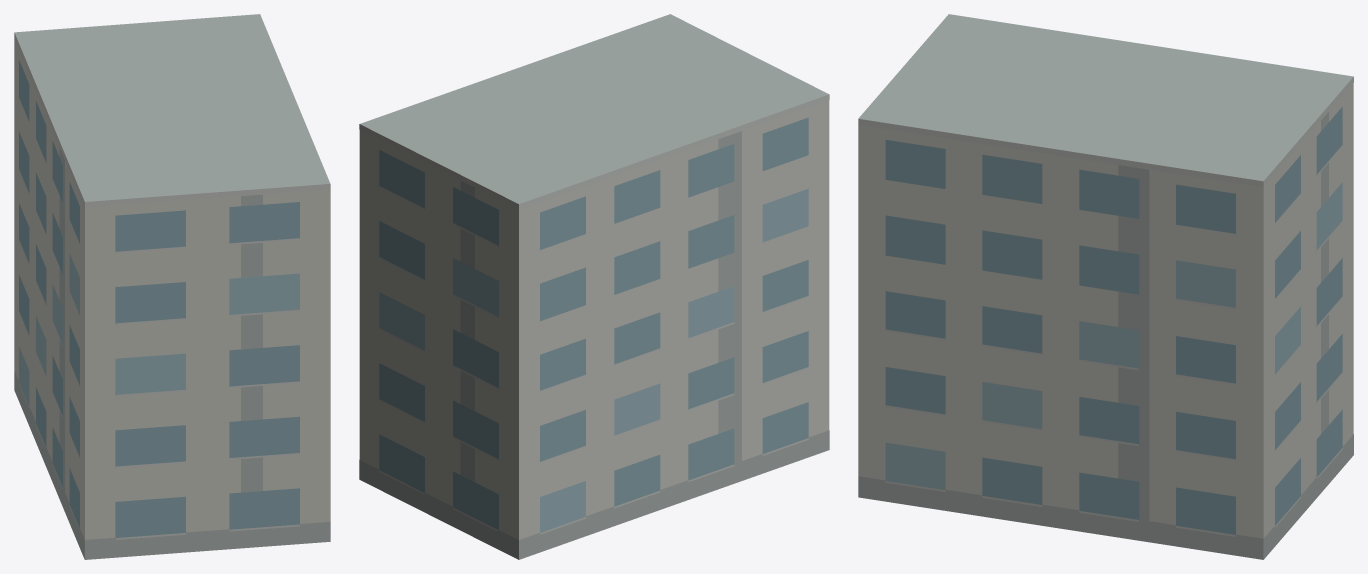
The model's file is residential-6ae02334-5e8a-46a9-8b9c-deee61b972b4.glb.
The picture shows the model from 3 angles, left to right: view 1: azimuth 30°, elevation 25°; view 2: azimuth 150°, elevation 25°; view 3: azimuth 270°, elevation 25°; orthographic projection. The views are drawn at different scales.
Parts seen in each view (by area): view 1: residential-6ae02334-5e8a-46a9-8b9c-deee61b972b4.tmp; view 2: residential-6ae02334-5e8a-46a9-8b9c-deee61b972b4.tmp; view 3: residential-6ae02334-5e8a-46a9-8b9c-deee61b972b4.tmp.
Part boxes in pixels (x1,y1,x2,y2): residential-6ae02334-5e8a-46a9-8b9c-deee61b972b4.tmp: (14, 14, 330, 559); residential-6ae02334-5e8a-46a9-8b9c-deee61b972b4.tmp: (359, 14, 829, 559); residential-6ae02334-5e8a-46a9-8b9c-deee61b972b4.tmp: (858, 14, 1353, 559).
Bounding box in the file's own units: 14.46 × 15.25 × 18.1.
